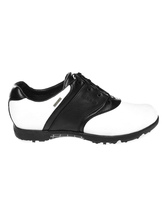shoes: (6, 71, 161, 144)
